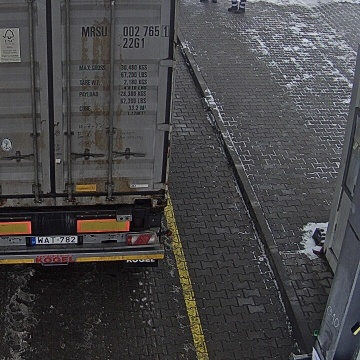serial_id: (81, 26, 167, 36)
